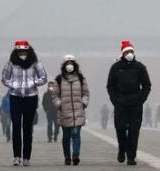person: (106, 40, 152, 165), (2, 38, 46, 167), (52, 53, 89, 166), (42, 80, 63, 143), (1, 89, 17, 142), (100, 103, 110, 129), (143, 103, 152, 128), (153, 103, 160, 128)
